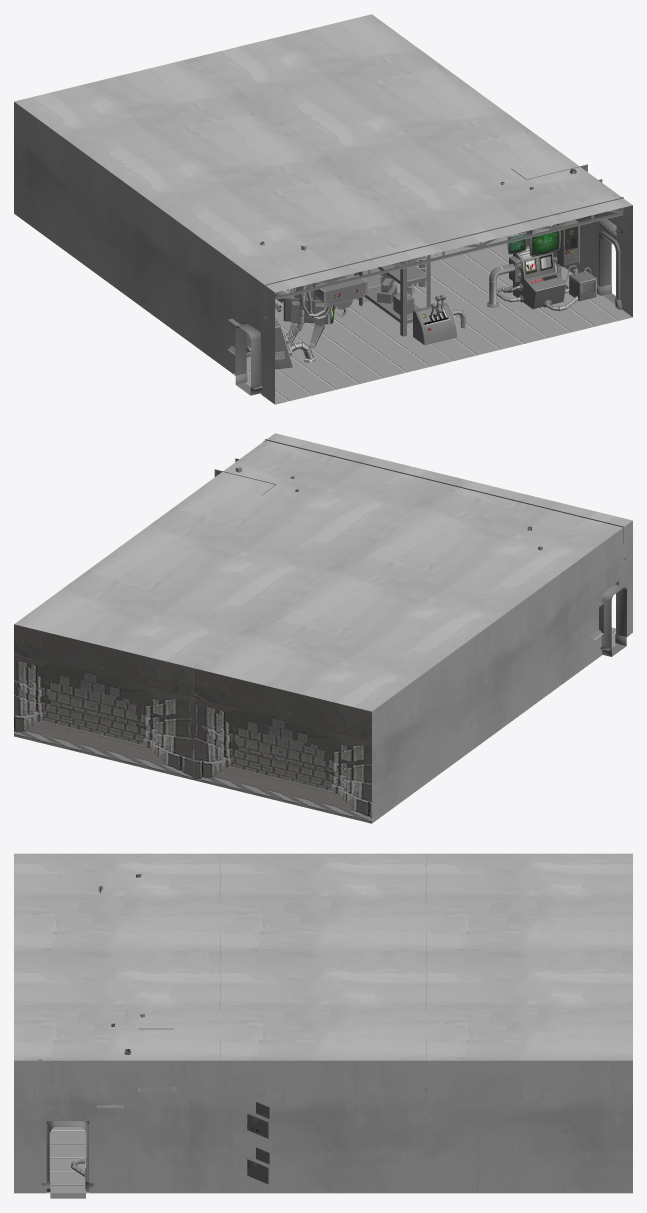
The model's file is MHS_Storage_L3_R2_optimized.fbx.
3 views of the same model, one above another, from view 1: azimuth 30°, elevation 25°; view 2: azimuth 150°, elevation 25°; view 3: azimuth 270°, elevation 25° (orthographic). The views are drawn at different scales.
Visible parts, largest first — view 1: lightmap1, lightmap-1, MHS_Storage_ani_01 1; view 2: lightmap1, lightmap-1; view 3: lightmap1.
Part boxes in pixels (left/top/right/bottom): lightmap1: left=14, top=14, right=632, bottom=404; lightmap-1: left=235, top=237, right=615, bottom=395; MHS_Storage_ani_01 1: left=300, top=275, right=367, bottom=319; lightmap1: left=14, top=433, right=632, bottom=823; lightmap-1: left=601, top=584, right=626, bottom=656; lightmap1: left=14, top=853, right=632, bottom=1193.
Size of the model in its own units: 20.95 by 6.6 by 24.77.
Materials: 4 (4 with a texture image).
